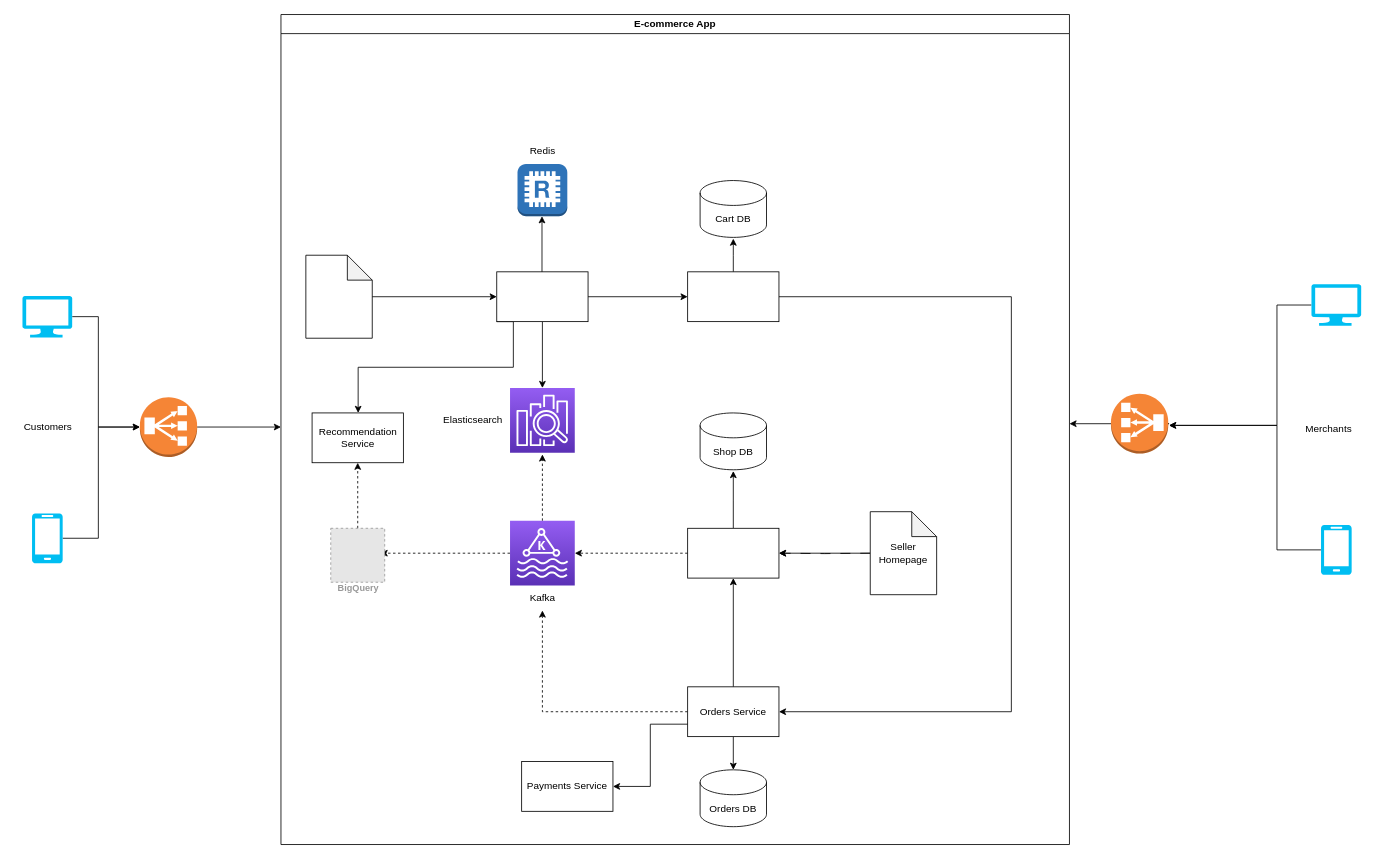
Some shapes in this 1375 by 859 pixel diagram are drawn without their labels. Grey dashed boxes stand in for pictures. The centre of each missing label's shape, as x and y in pixels:
"Cart Service" belongs at pixel 733 296.
"Customer Homepage" belongs at pixel 338 296.
"Search Service" belongs at pixel 542 296.
"Shop Service" belongs at pixel 733 552.
